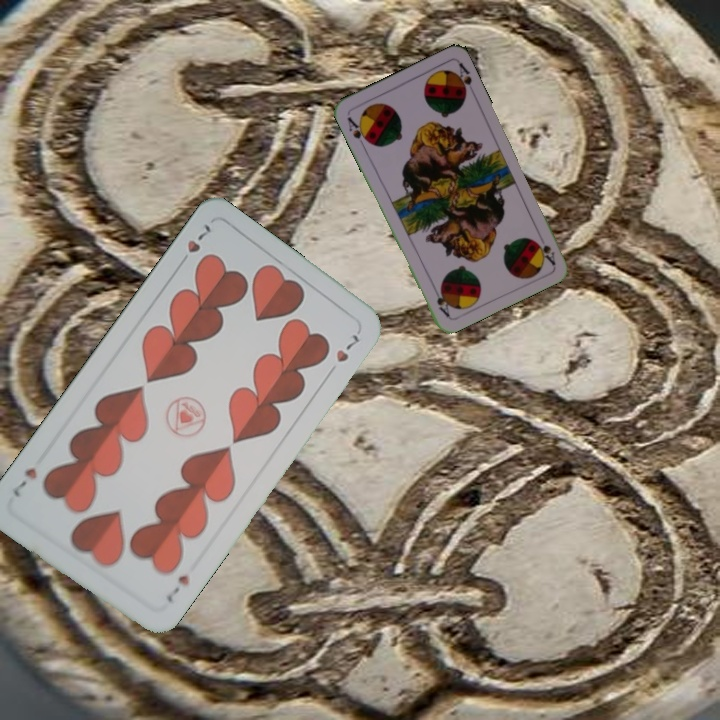H7: (173, 220, 214, 270), (161, 570, 192, 605)
SA: (343, 113, 372, 150), (532, 237, 558, 268)
